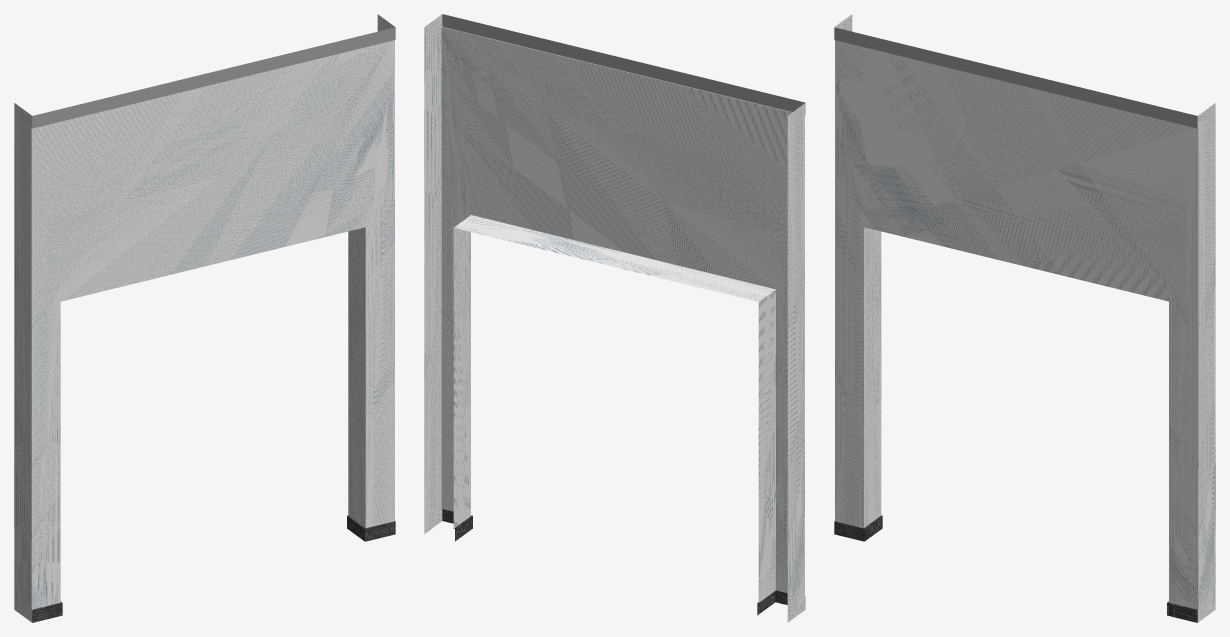
File: BlockWall_os_plinth_[300x400x025]_252x247_double_doorway.dae
3 views of the same model, side by side, from view 1: azimuth 30°, elevation 25°; view 2: azimuth 150°, elevation 25°; view 3: azimuth 330°, elevation 25° (orthographic).
Visible parts, largest first — view 1: group_0 (×3); view 2: group_0 (×2); view 3: group_0 (×3).
Part boxes in pixels (left/top/right/bottom): group_0 (×3): left=14, top=14, right=395, bottom=622; group_0 (×2): left=424, top=14, right=805, bottom=622; group_0 (×3): left=834, top=14, right=1215, bottom=622.
Size of the model in its own units: 118 by 10.24 by 157.
